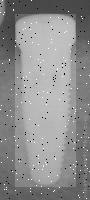Implant Direct: (4, 10, 78, 188)
